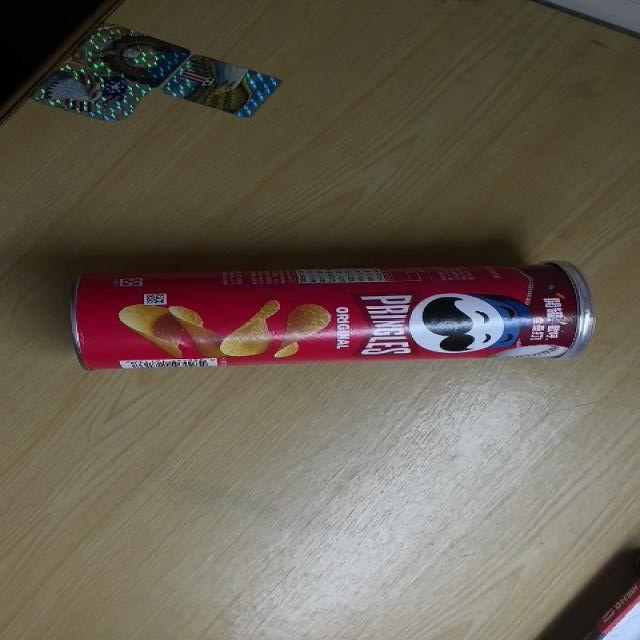Pringles: (64, 259, 594, 372)
